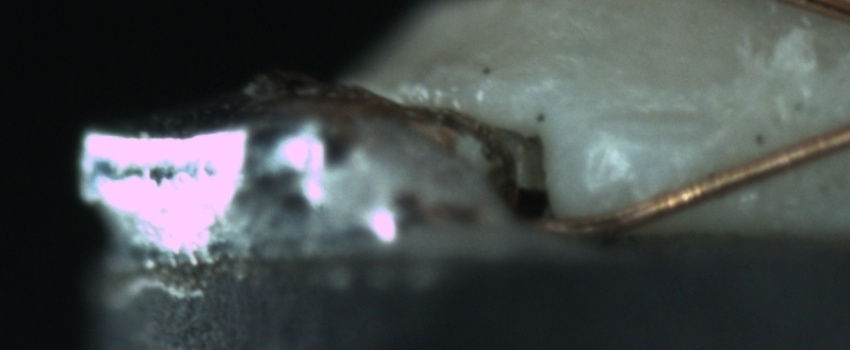DL: (585, 90, 715, 162)
